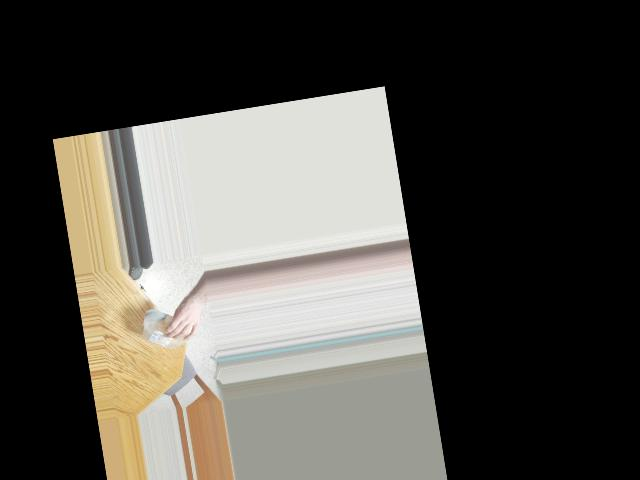cheese: (144, 316, 188, 350)
